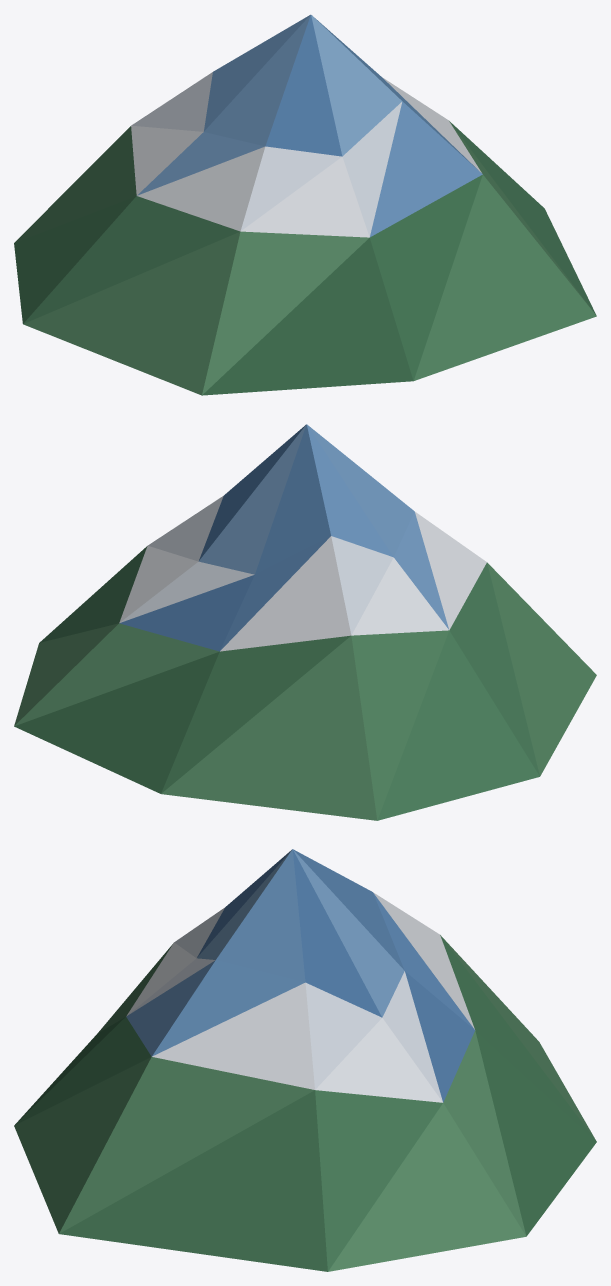
The model's file is mountain.glb.
3 views of the same model, one above another, from view 1: azimuth 30°, elevation 25°; view 2: azimuth 150°, elevation 25°; view 3: azimuth 270°, elevation 25° (orthographic). The views are drawn at different scales.
Parts seen in each view (by area): view 1: mountain; view 2: mountain; view 3: mountain.
Part boxes in pixels (x1,y1,x2,y2): mountain: [14, 14, 596, 395]; mountain: [14, 424, 596, 820]; mountain: [14, 849, 596, 1271].
Bounding box in the file's own units: 2 × 1 × 1.82.
